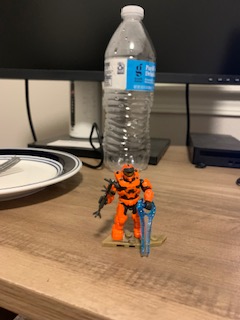spartan: (94, 164, 158, 242)
